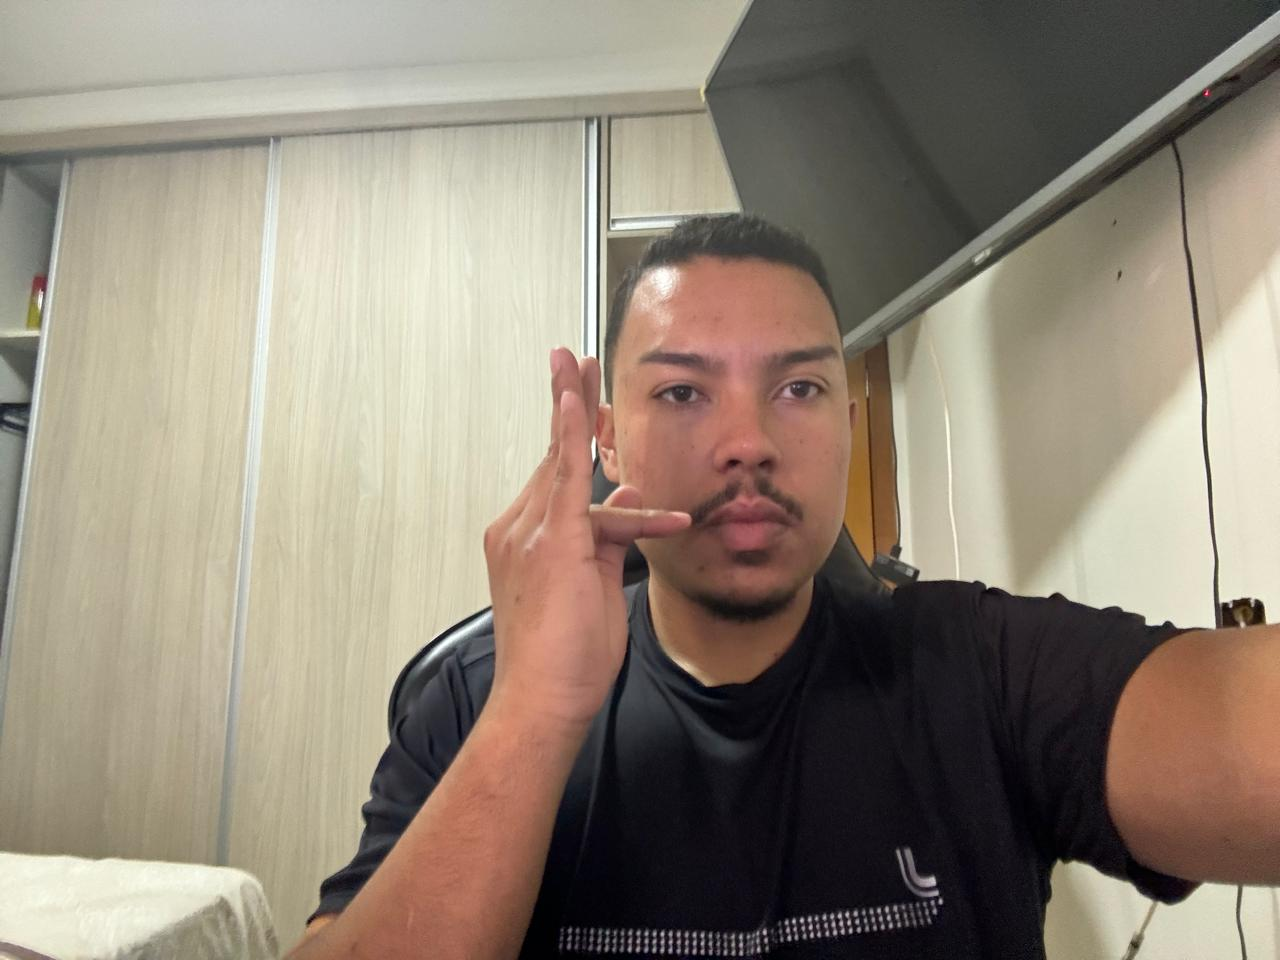f: (465, 337, 694, 740)
